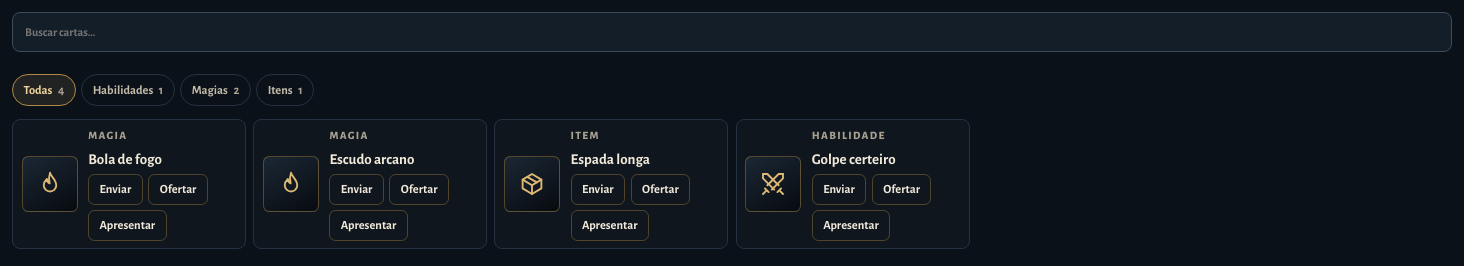
Test: aba Cartas do painel da Sala › o filtro por tipo mostra só os tipos presentes, com contagem, e se soma à busca
This screenshot has width=1464, height=266.
Click the button "Magias 2" at (215, 90), box [180,74,251,106]
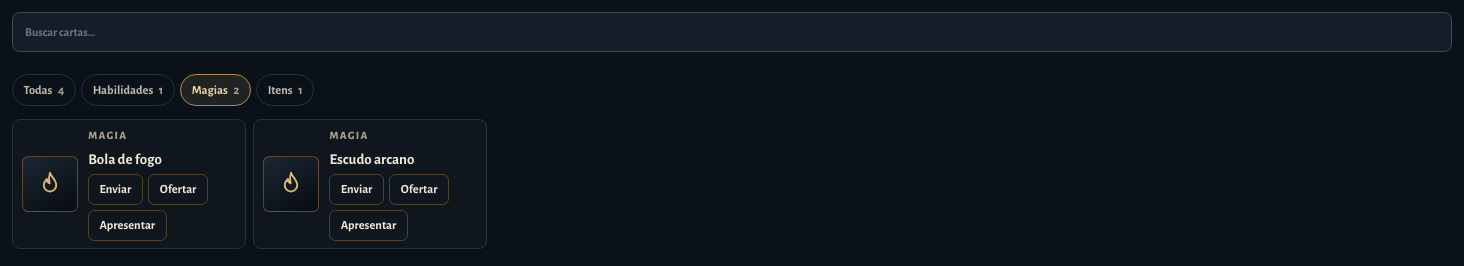
Check: the text "Bola de fogo" is shown, box [88,152,162,167]
Check: the text "Espada longa" is gone
Type "escudo" into the search field labelled "Buscar cartas" at (732, 32), box [12,12,1452,52]
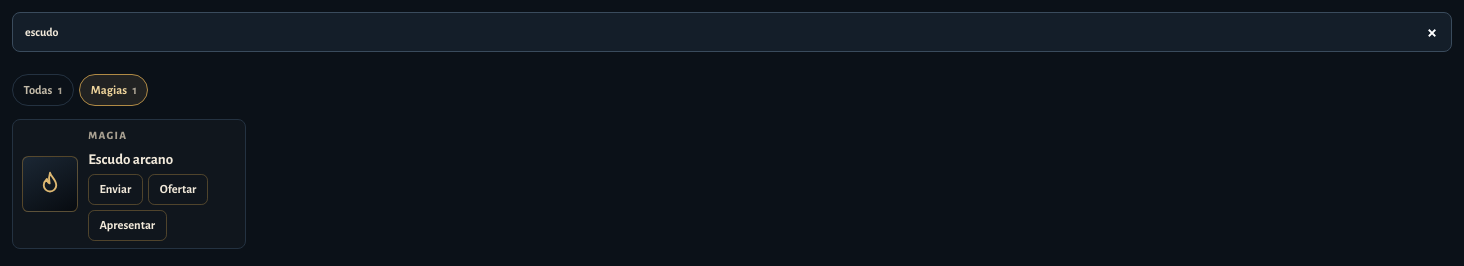
Check: the text "Escudo arcano" is shown, box [88,152,173,167]
Check: the text "Bola de fogo" is gone
